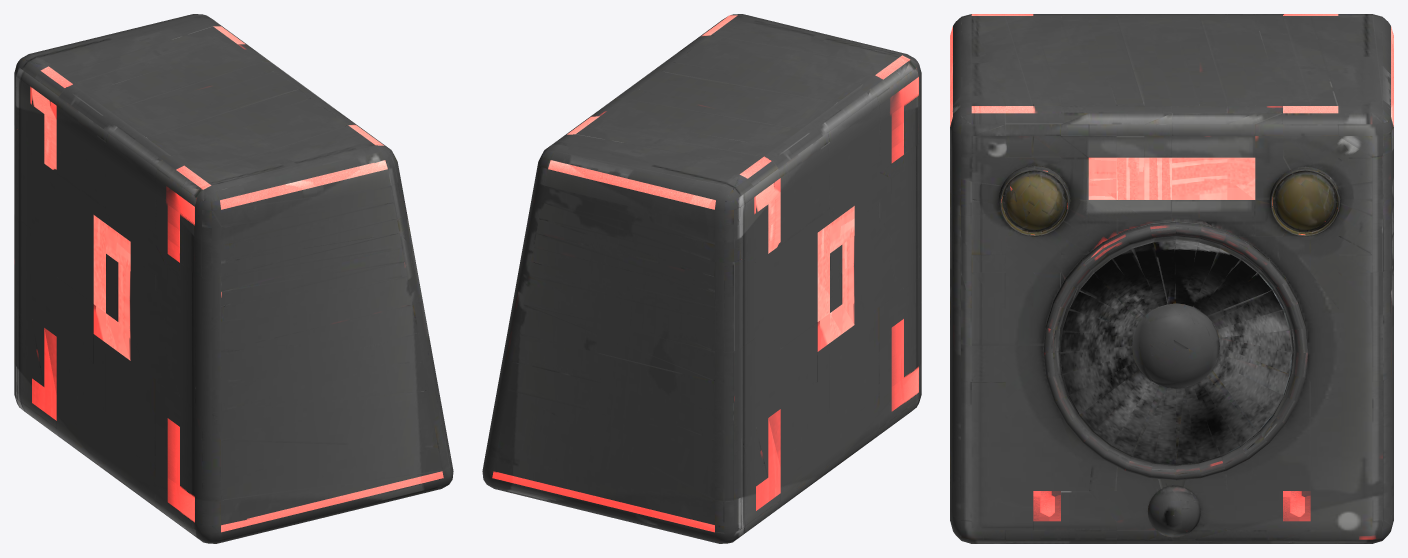
The model's file is SpeakerCubeRed.glb.
3 views of the same model, side by side, from view 1: azimuth 30°, elevation 25°; view 2: azimuth 150°, elevation 25°; view 3: azimuth 270°, elevation 25° (orthographic). The views are drawn at different scales.
Parts seen in each view (by area): view 1: 2speakLP; view 2: 2speakLP; view 3: 2speakLP.
Part boxes in pixels (x1=…): 2speakLP: x1=14, y1=14, x2=453, y2=543; 2speakLP: x1=482, y1=14, x2=921, y2=543; 2speakLP: x1=950, y1=14, x2=1393, y2=543.
Bounding box in the file's own units: 1.57 × 2 × 2.
Materials: 1 (1 with a texture image).
